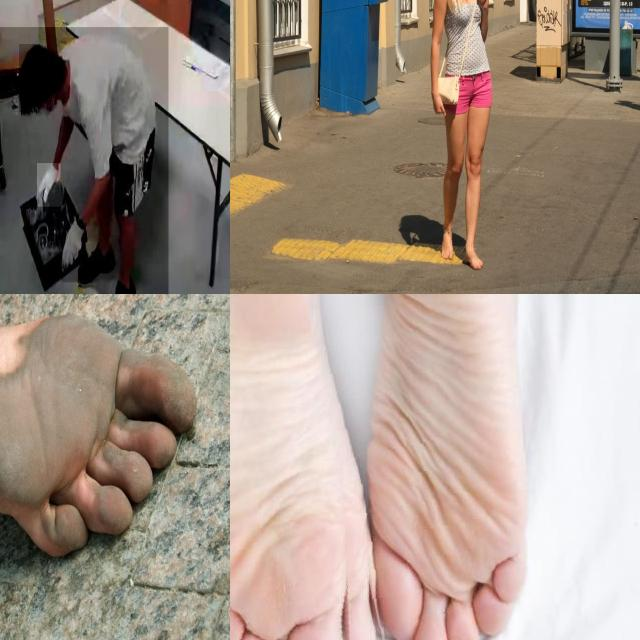Barefoots: (270, 294, 583, 640), (230, 294, 418, 640), (0, 294, 197, 557), (442, 226, 454, 260), (465, 250, 483, 270)
hand_glove: (62, 219, 84, 283), (37, 163, 61, 208)
head_nohelmet: (19, 44, 40, 113)
person: (0, 27, 169, 294)
shoes: (74, 232, 119, 286), (99, 267, 138, 294)
